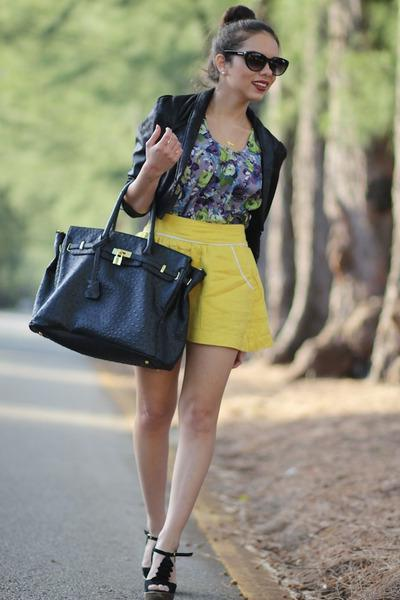jacket: (105, 87, 293, 255)
skirt: (105, 212, 272, 354)
vest: (155, 116, 269, 223)
